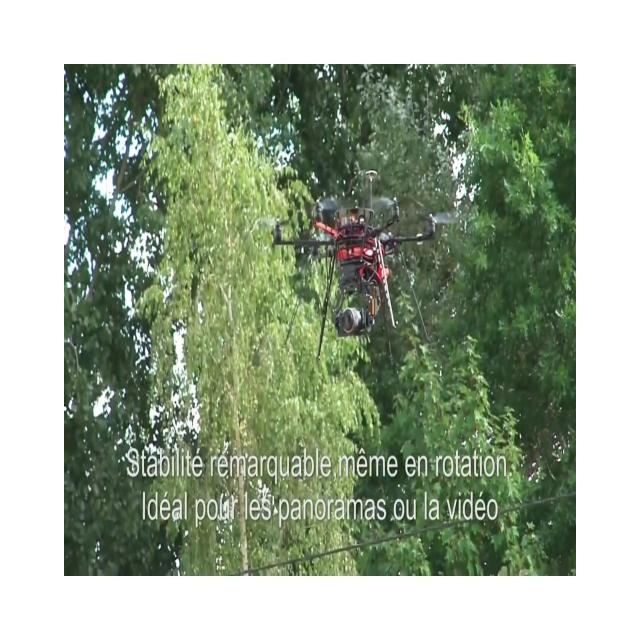drone: (261, 167, 446, 361)
